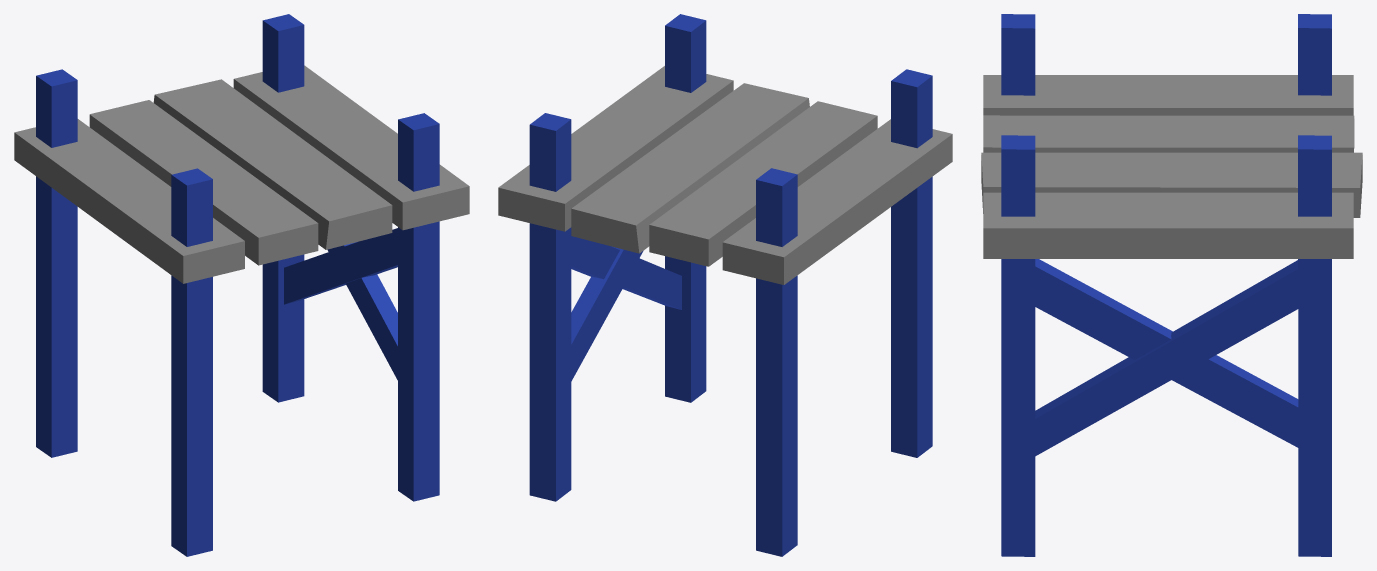
Rendered from Scaffolding_02_mm.fbx.
The picture shows the model from 3 angles, left to right: view 1: azimuth 30°, elevation 25°; view 2: azimuth 150°, elevation 25°; view 3: azimuth 270°, elevation 25°; orthographic projection. The views are drawn at different scales.
Visible parts, largest first — view 1: Scaffolding_02; view 2: Scaffolding_02; view 3: Scaffolding_02.
Part boxes in pixels (x1,y1,x2,y2): Scaffolding_02: (14, 14, 469, 556); Scaffolding_02: (498, 14, 952, 556); Scaffolding_02: (981, 14, 1362, 556).
Bounding box in the file's own units: 194 × 241 × 204.
